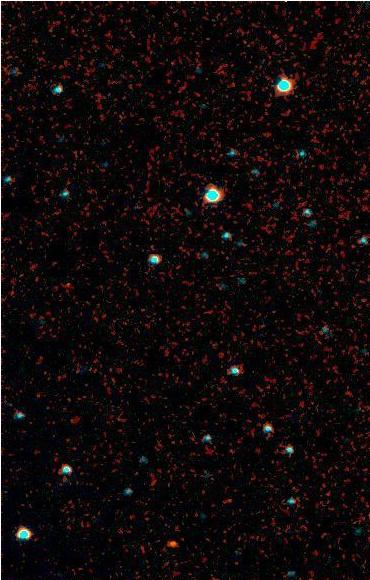star: (158, 530, 188, 560)
